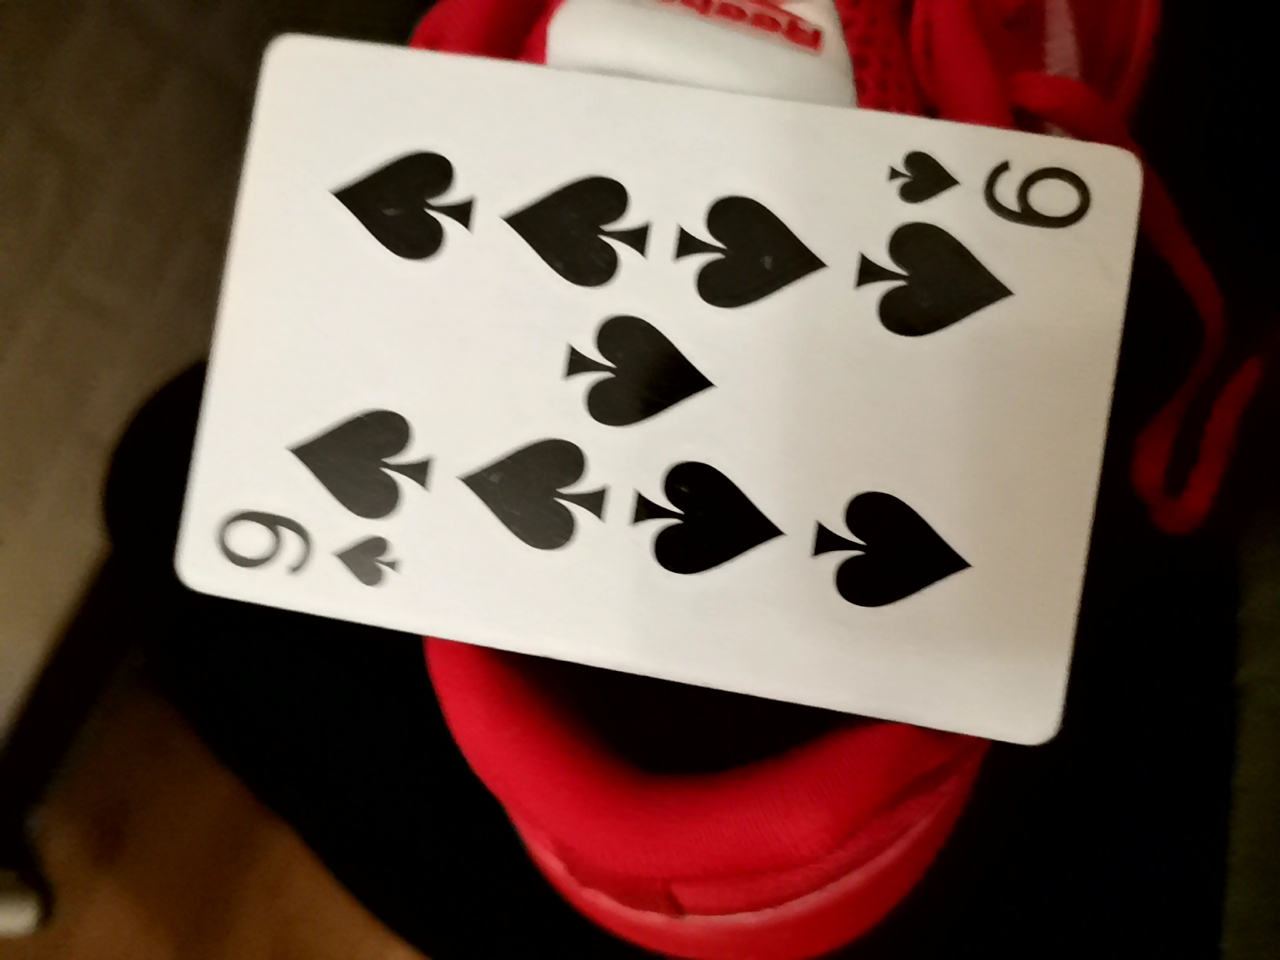ht 9: (145, 66, 1117, 756)
